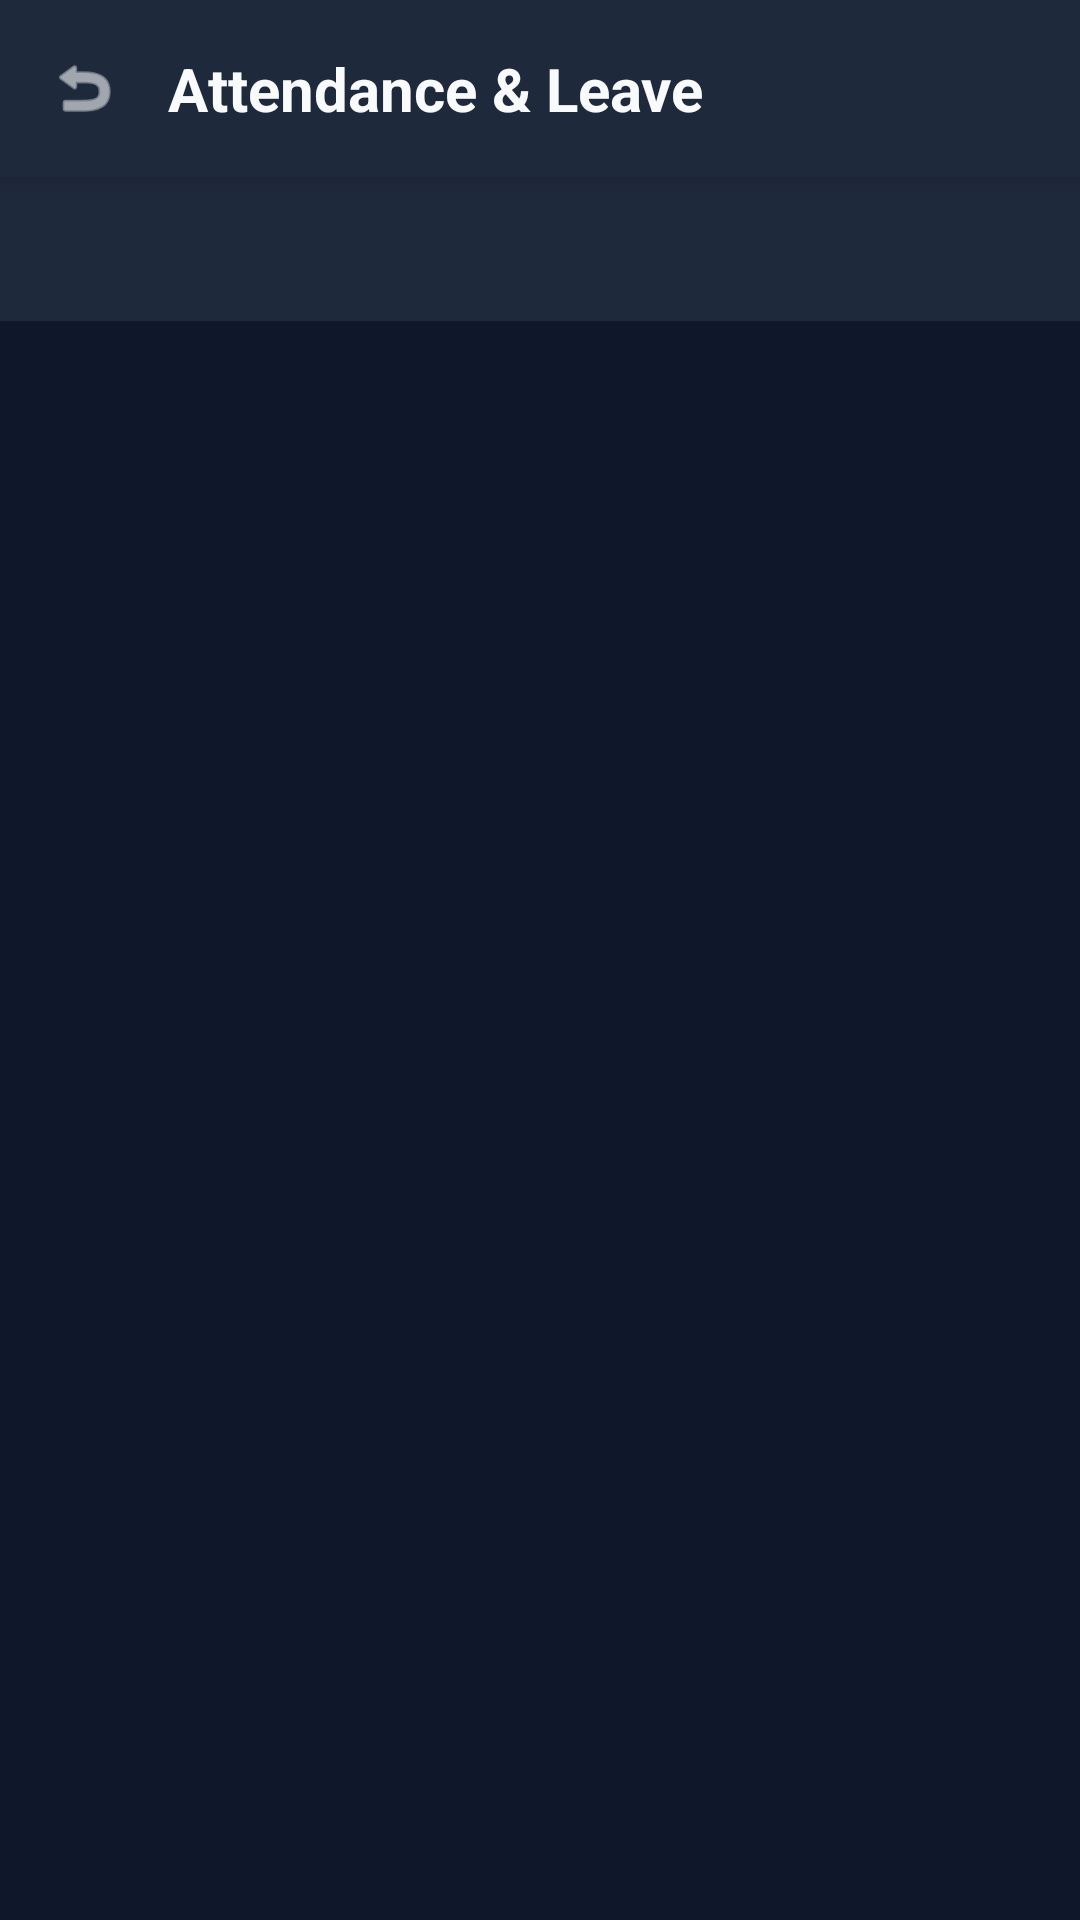

Named icons in this screenshot (1080×1920) and their bounding boxes, (x1, y1, x2, y2):
revert: (59, 65, 111, 112)
